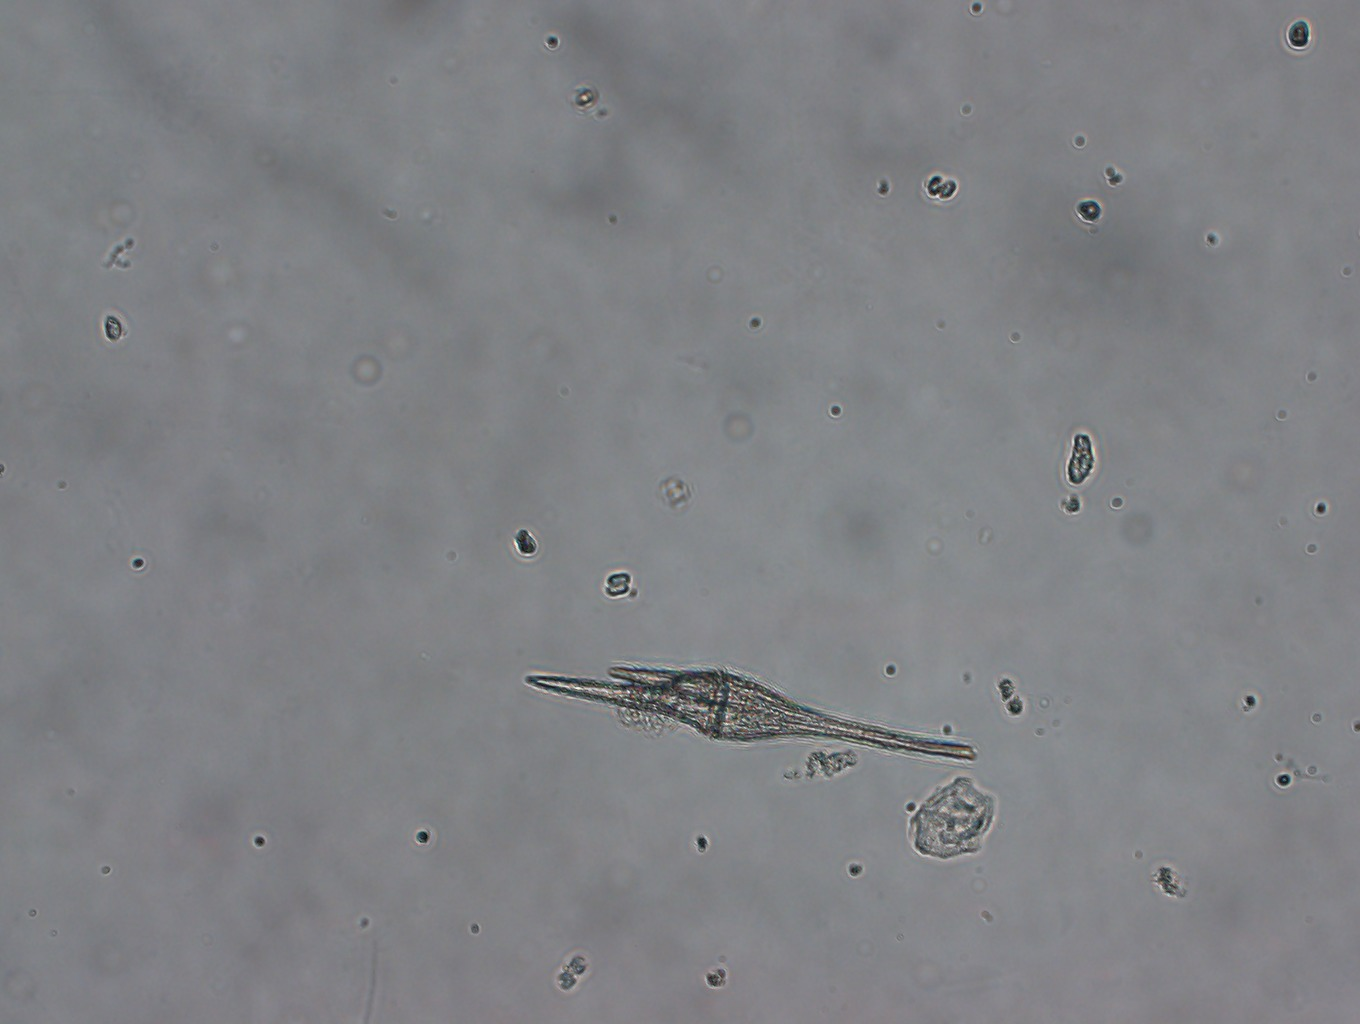ceratium furca: (515, 644, 980, 774)
